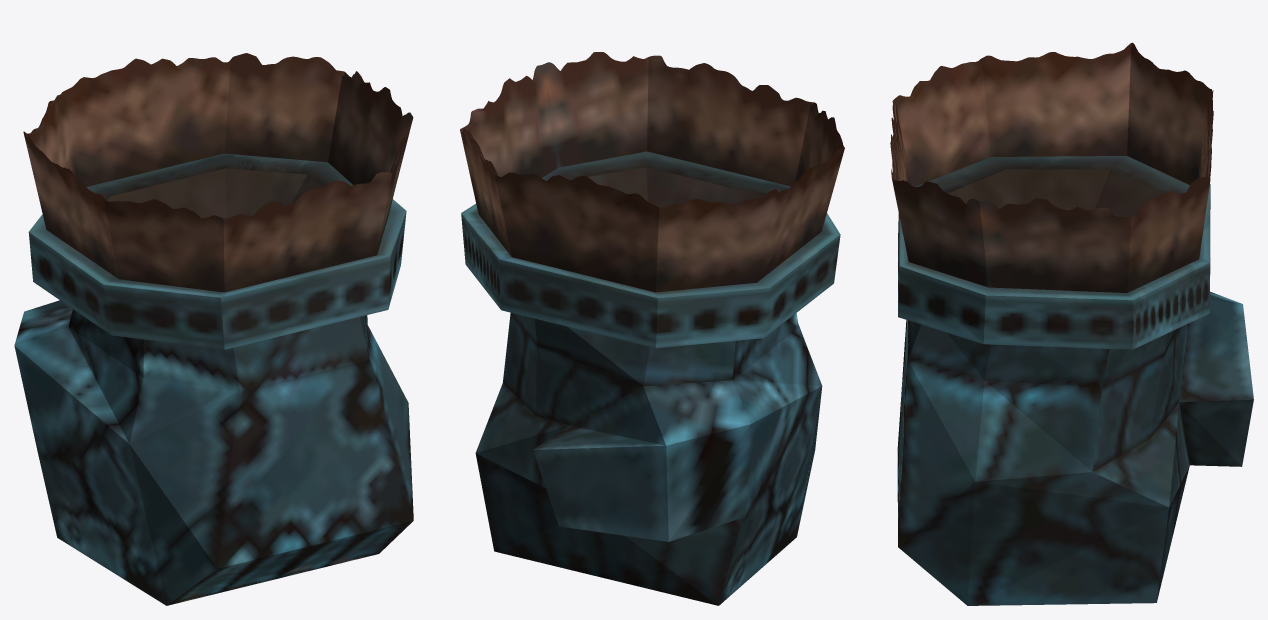
The model's file is Panda_metalKnuckle_right.obj.
3 views of the same model, side by side, from view 1: azimuth 30°, elevation 25°; view 2: azimuth 150°, elevation 25°; view 3: azimuth 270°, elevation 25° (orthographic).
Parts seen in each view (by area): view 1: Panda_metalKnuckle_tri [right]; view 2: Panda_metalKnuckle_tri [right]; view 3: Panda_metalKnuckle_tri [right].
Boxes of the visible parts, bbox=[...] form: Panda_metalKnuckle_tri [right]: bbox=[14, 53, 413, 605]; Panda_metalKnuckle_tri [right]: bbox=[460, 52, 844, 605]; Panda_metalKnuckle_tri [right]: bbox=[890, 42, 1253, 605].
Bounding box in the file's own units: 0.2139 × 0.2774 × 0.2041.
1 material, 1 textured.
